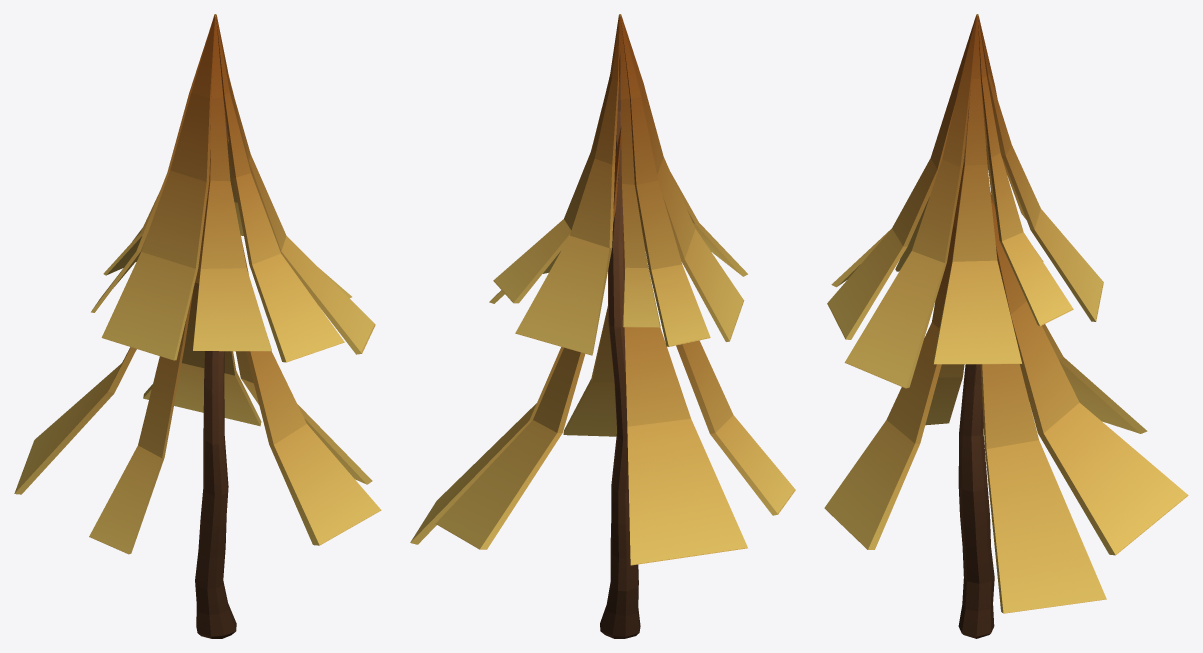
File: Tree3Dry 1.fbx
3 renders of one model, left to right at view 1: azimuth 30°, elevation 25°; view 2: azimuth 150°, elevation 25°; view 3: azimuth 270°, elevation 25°, orthographic.
Parts seen in each view (by area): view 1: SmallerTree_LOD0; view 2: SmallerTree_LOD0; view 3: SmallerTree_LOD0.
Boxes of the visible parts, x1,y1,x2,y2 form: SmallerTree_LOD0: [14, 14, 381, 638]; SmallerTree_LOD0: [410, 14, 795, 638]; SmallerTree_LOD0: [824, 14, 1188, 638].
Size of what is drawn, in the model's own units: 153 by 270 by 145.
Materials: 2 (2 with a texture image).
